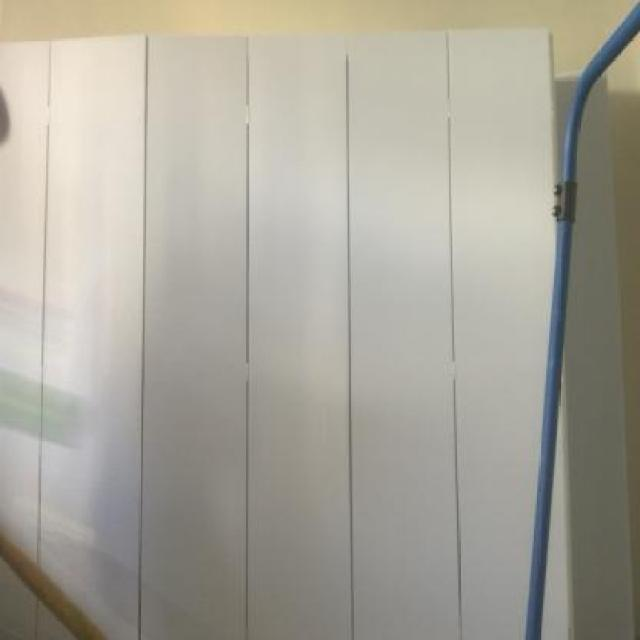baseball: (0, 366, 100, 463)
